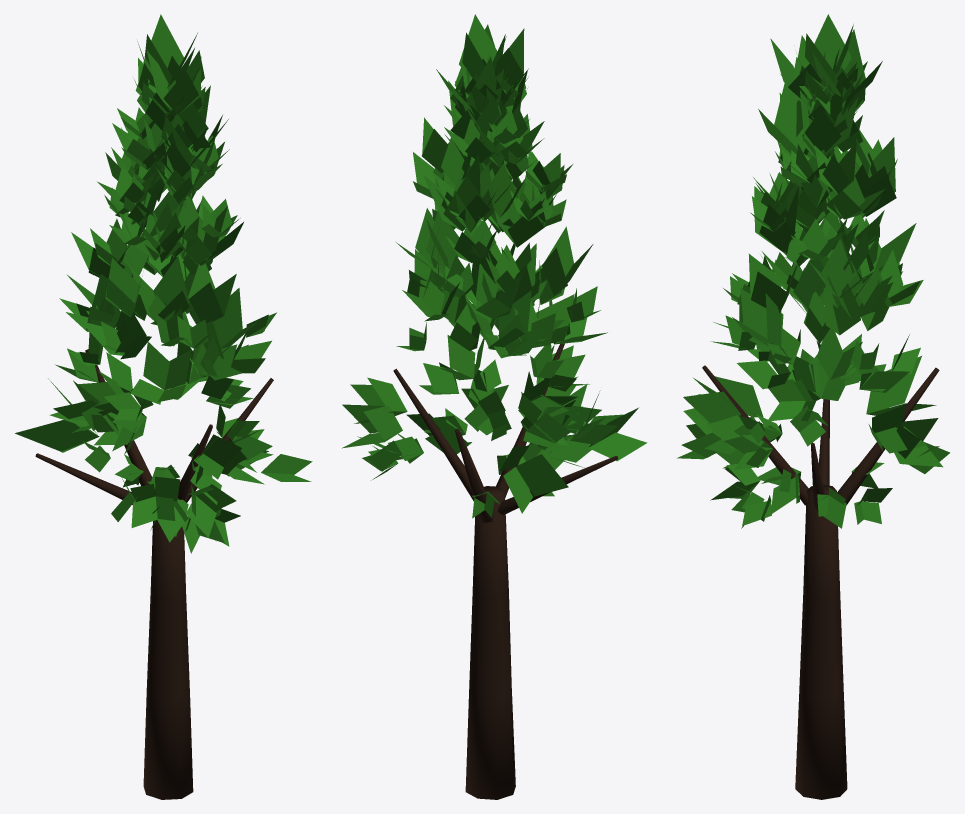
Rendered from Tree_10_B_LOD1.obj.
3 views of the same model, side by side, from view 1: azimuth 30°, elevation 25°; view 2: azimuth 150°, elevation 25°; view 3: azimuth 270°, elevation 25° (orthographic).
Parts seen in each view (by area): view 1: Leaves, Trunk; view 2: Leaves, Trunk; view 3: Leaves, Trunk.
Part boxes in pixels (x1=…): Leaves: x1=15, y1=14, x2=312, y2=553; Trunk: x1=35, y1=349, x2=273, y2=799; Leaves: x1=342, y1=14, x2=647, y2=518; Trunk: x1=393, y1=343, x2=617, y2=799; Leaves: x1=677, y1=14, x2=949, y2=528; Trunk: x1=702, y1=365, x2=939, y2=799.
Size of the model in its own units: 4.92 by 14.71 by 4.75.
